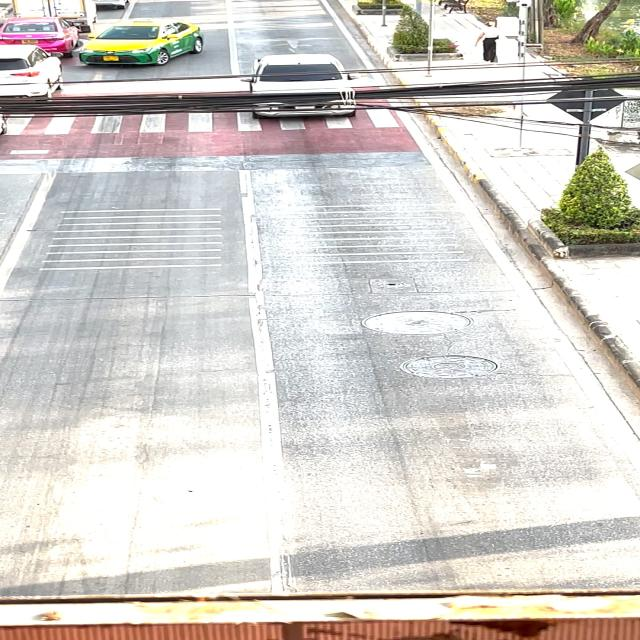car: (234, 47, 365, 126), (58, 20, 244, 69)
